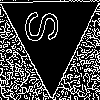S: (25, 9, 66, 44)
